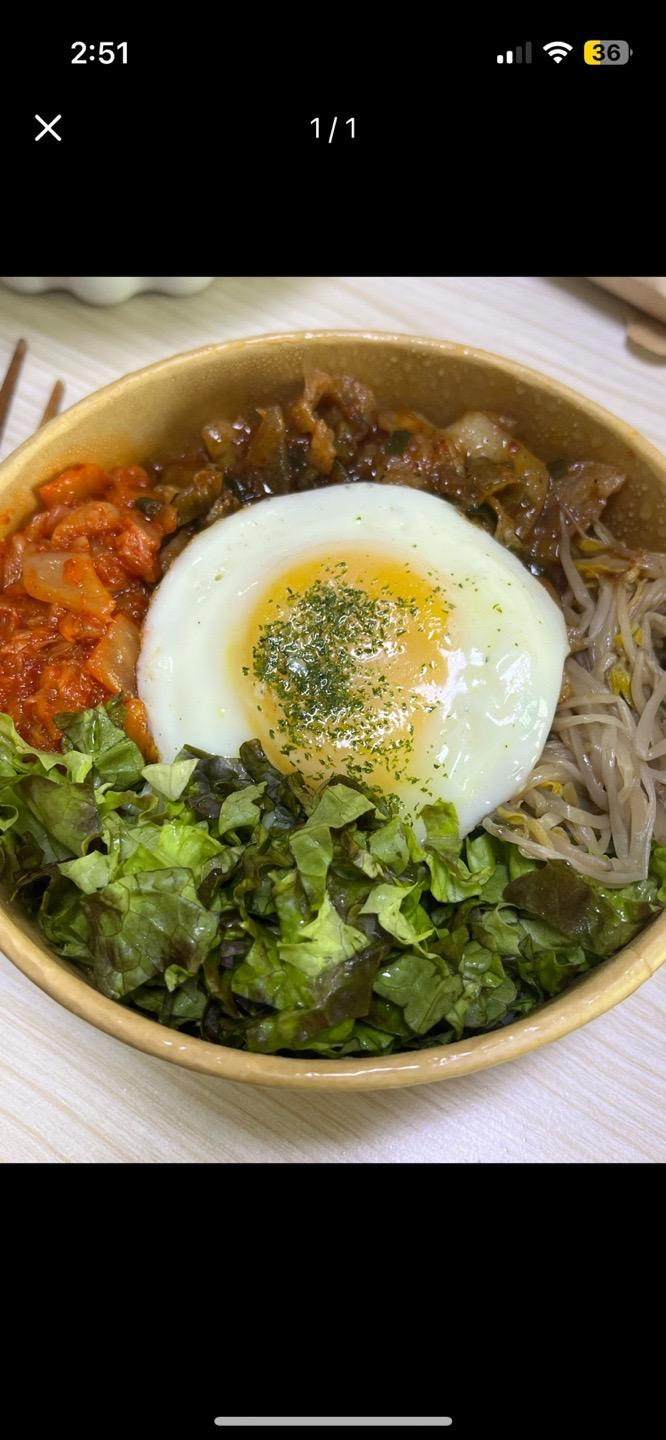Lunch Box: (0, 332, 665, 1088)
